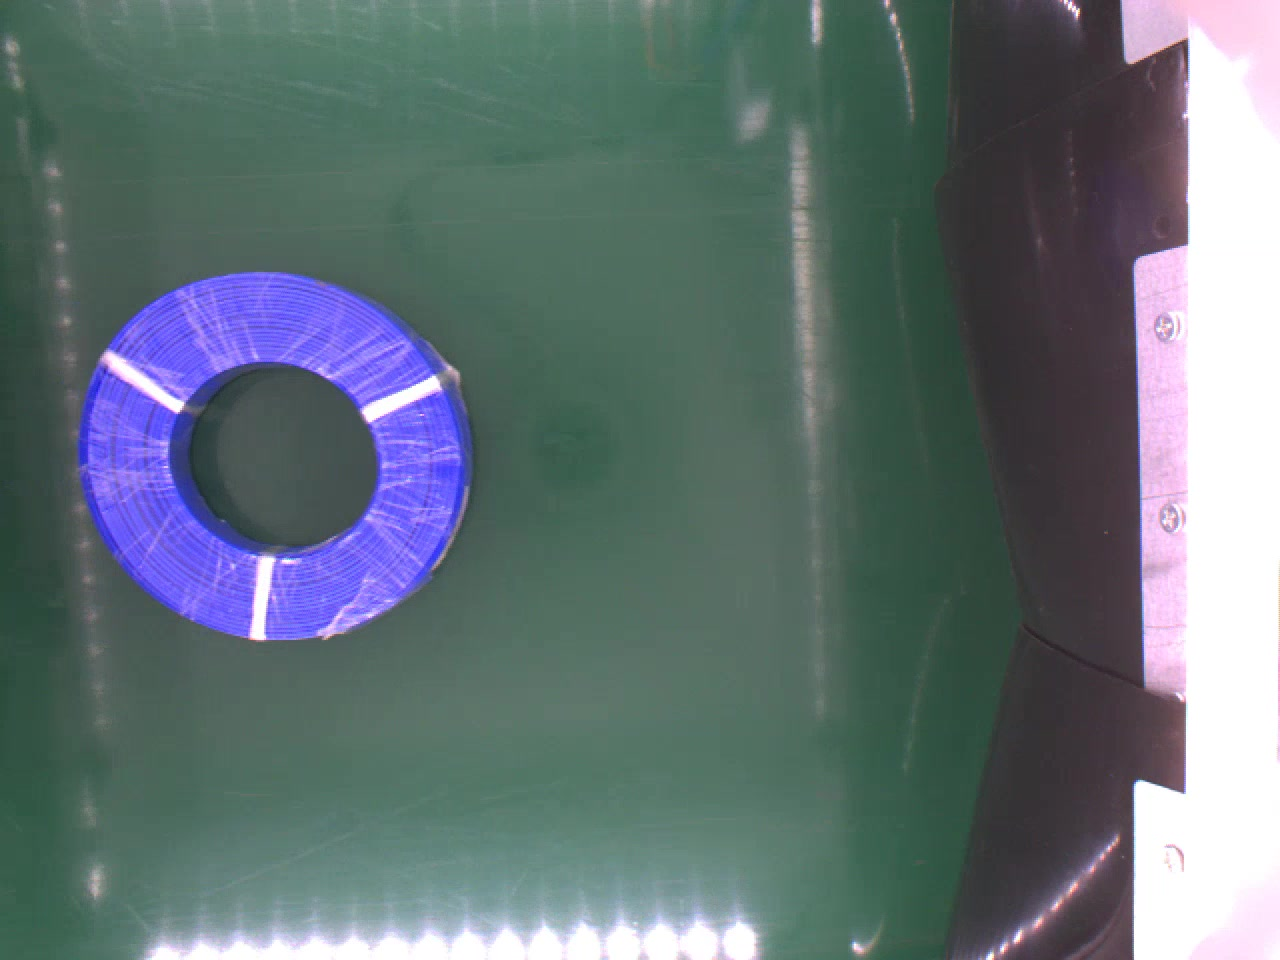blue: (83, 273, 469, 641)
